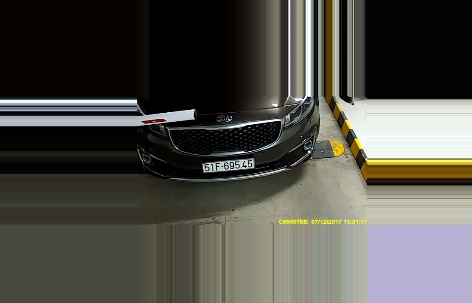plate: (199, 157, 260, 175)
